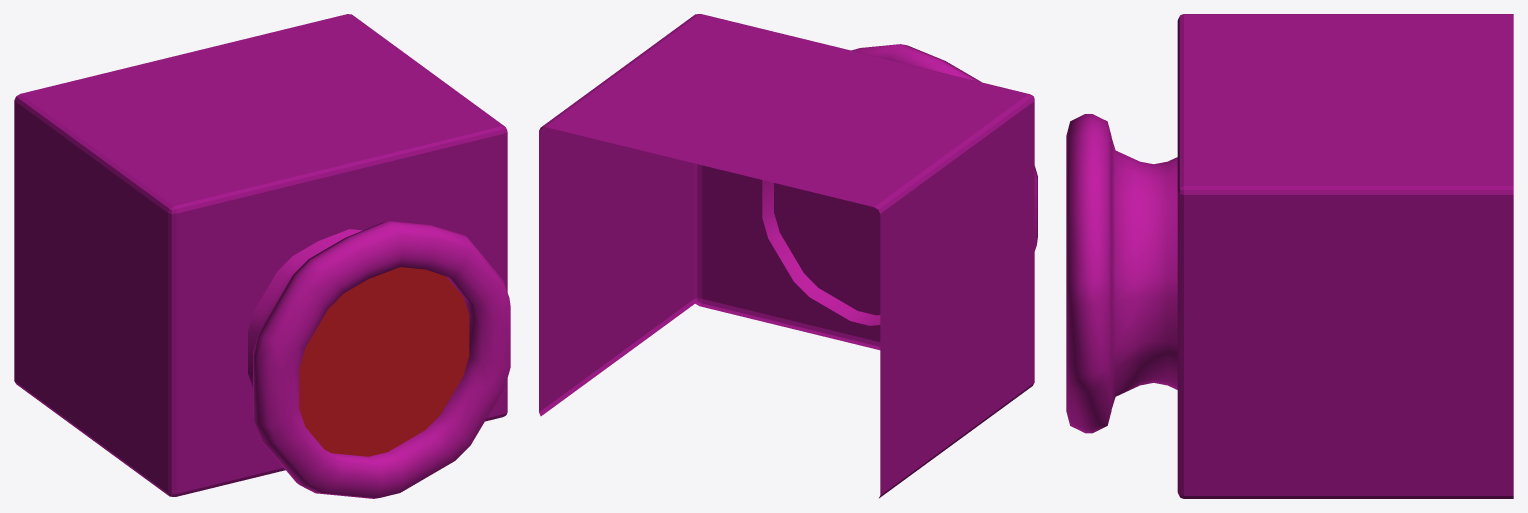
Rendered from SM_Meatgrinder.fbx.
3 renders of one model, left to right at view 1: azimuth 30°, elevation 25°; view 2: azimuth 150°, elevation 25°; view 3: azimuth 270°, elevation 25°, orthographic. The views are drawn at different scales.
Parts seen in each view (by area): view 1: SM_Meatgrinder_Outer, SM_Meatgrinder_Ring; view 2: SM_Meatgrinder_Outer, SM_Meatgrinder_Ring; view 3: SM_Meatgrinder_Outer, SM_Meatgrinder_Ring.
Boxes of the visible parts, x1,y1,x2,y2 form: SM_Meatgrinder_Outer: (14, 14, 507, 496); SM_Meatgrinder_Ring: (248, 221, 510, 498); SM_Meatgrinder_Outer: (539, 14, 1034, 498); SM_Meatgrinder_Ring: (762, 44, 1037, 325); SM_Meatgrinder_Outer: (1177, 14, 1513, 498); SM_Meatgrinder_Ring: (1066, 114, 1177, 433).
Size of the model in its own units: 894 by 746 by 951.
